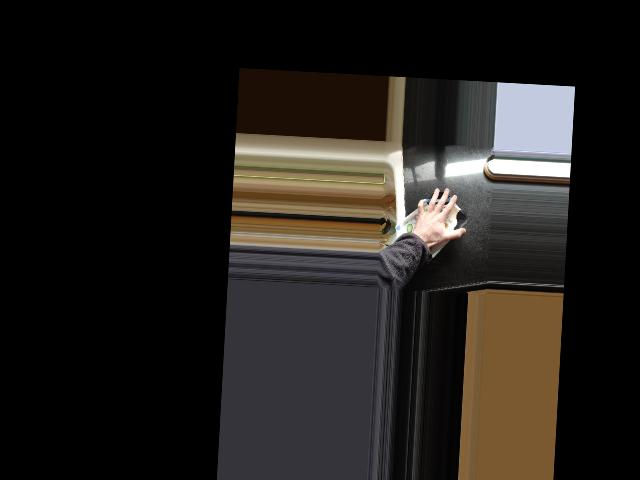cheese: (390, 186, 470, 265)
